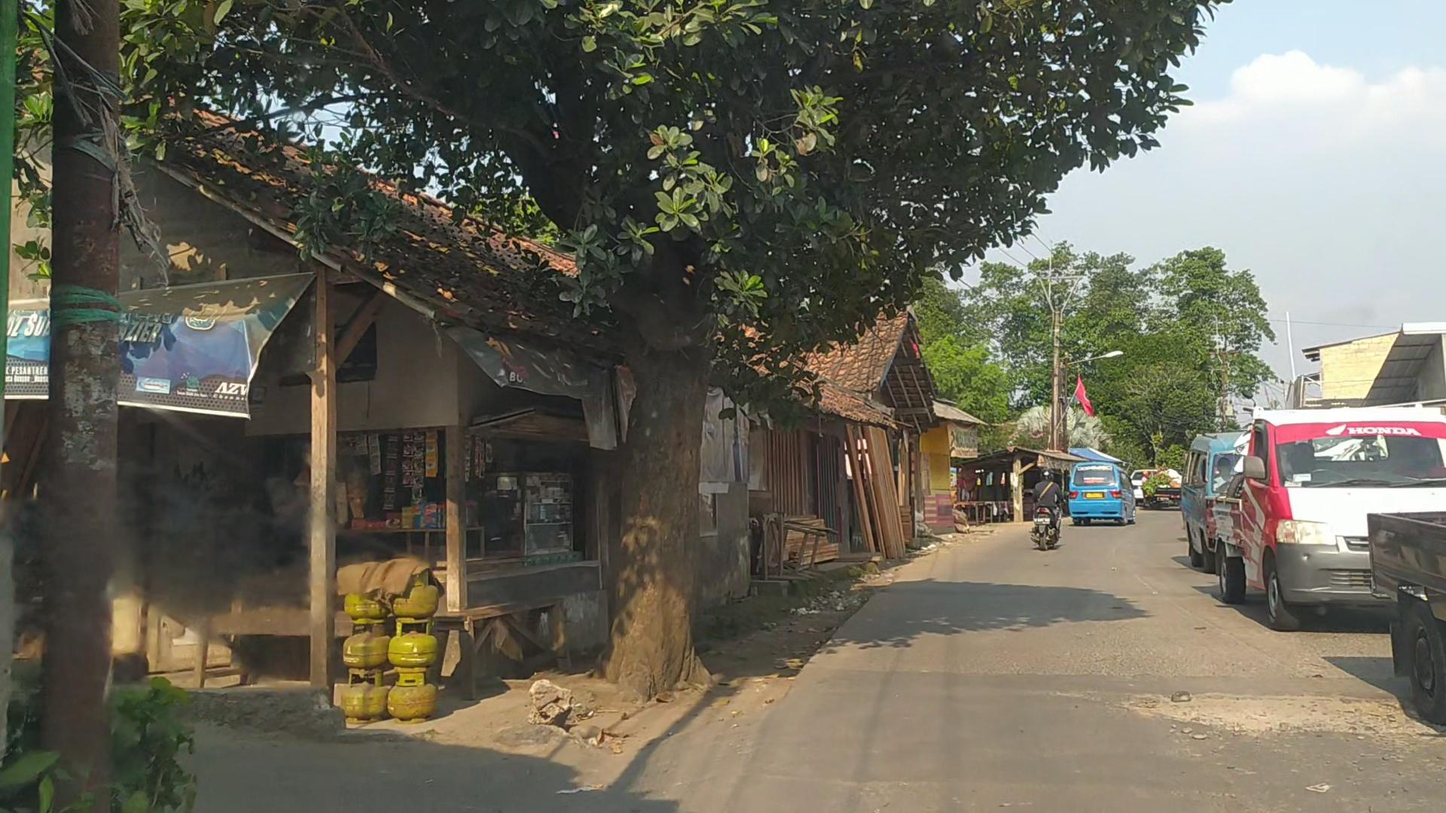pothole: (1124, 691, 1446, 742)
